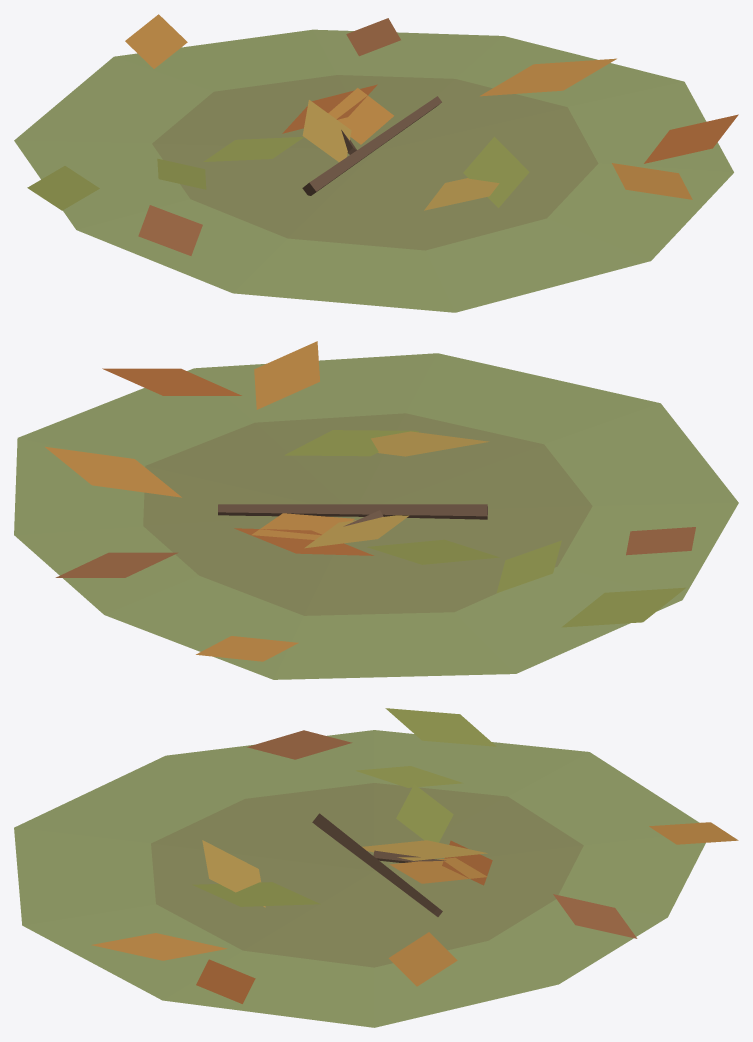
File: gc_leaves_a.glb
3 views of the same model, one above another, from view 1: azimuth 30°, elevation 25°; view 2: azimuth 150°, elevation 25°; view 3: azimuth 270°, elevation 25° (orthographic). The views are drawn at different scales.
Parts seen in each view (by area): view 1: body_nh, body; view 2: body_nh, body; view 3: body_nh, body.
Part boxes in pixels (bbox=[...]): body_nh: bbox=[14, 14, 738, 312]; body: bbox=[302, 96, 441, 195]; body_nh: bbox=[14, 341, 738, 679]; body: bbox=[218, 504, 487, 526]; body_nh: bbox=[14, 708, 738, 1027]; body: bbox=[312, 813, 445, 916].
Size of the model in its own units: 1.3 by 0.0378 by 1.32.
